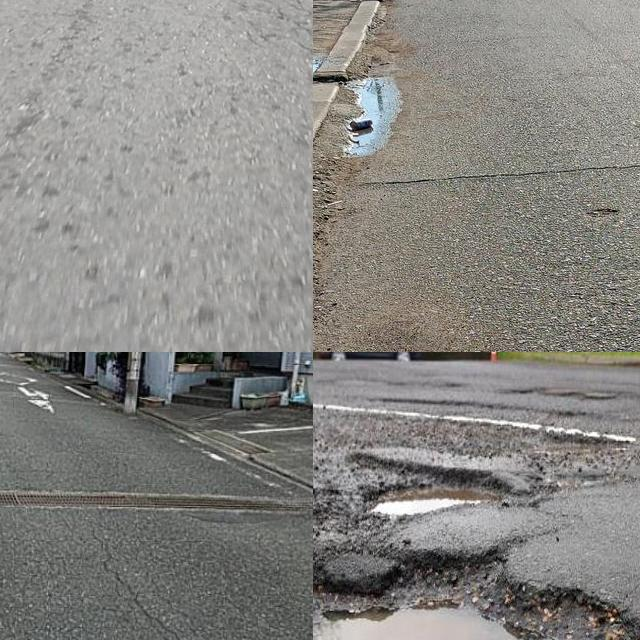Lubang: (313, 553, 640, 640), (357, 465, 509, 520)
Melintang: (344, 152, 640, 201), (0, 483, 313, 524)
